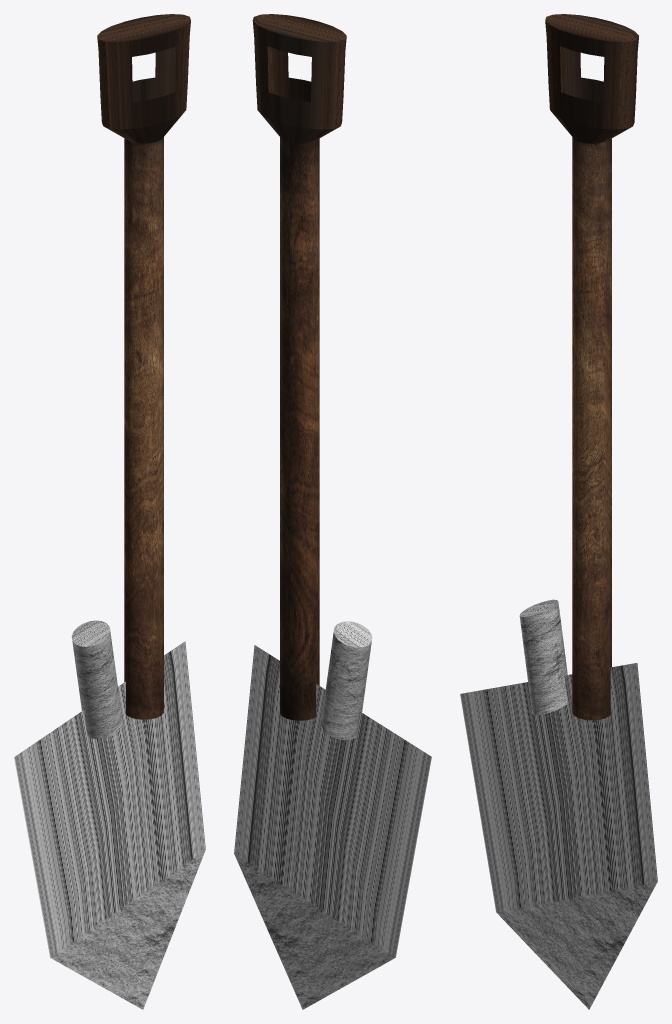
Rendered from shovel2.fbx.
The picture shows the model from 3 angles, left to right: view 1: azimuth 30°, elevation 25°; view 2: azimuth 150°, elevation 25°; view 3: azimuth 330°, elevation 25°; orthographic projection.
Parts seen in each view (by area): view 1: Pyramid001, Cylinder005; view 2: Pyramid001, Cylinder005; view 3: Pyramid001, Cylinder005.
Part boxes in pixels (left/top/right/bottom): Pyramid001: left=14, top=620, right=205, bottom=1009; Cylinder005: left=97, top=14, right=190, bottom=719; Pyramid001: left=234, top=621, right=431, bottom=1009; Cylinder005: left=252, top=14, right=346, bottom=720; Pyramid001: left=460, top=599, right=657, bottom=1009; Cylinder005: left=545, top=14, right=638, bottom=720.
Size of the model in its own units: 199 by 959 by 40.31.
Materials: 2 (2 with a texture image).
